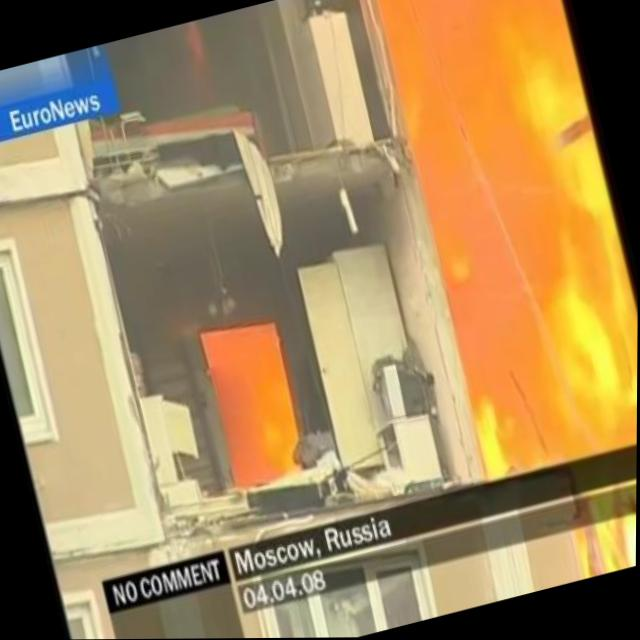fire: (361, 0, 640, 484), (197, 314, 312, 498)
